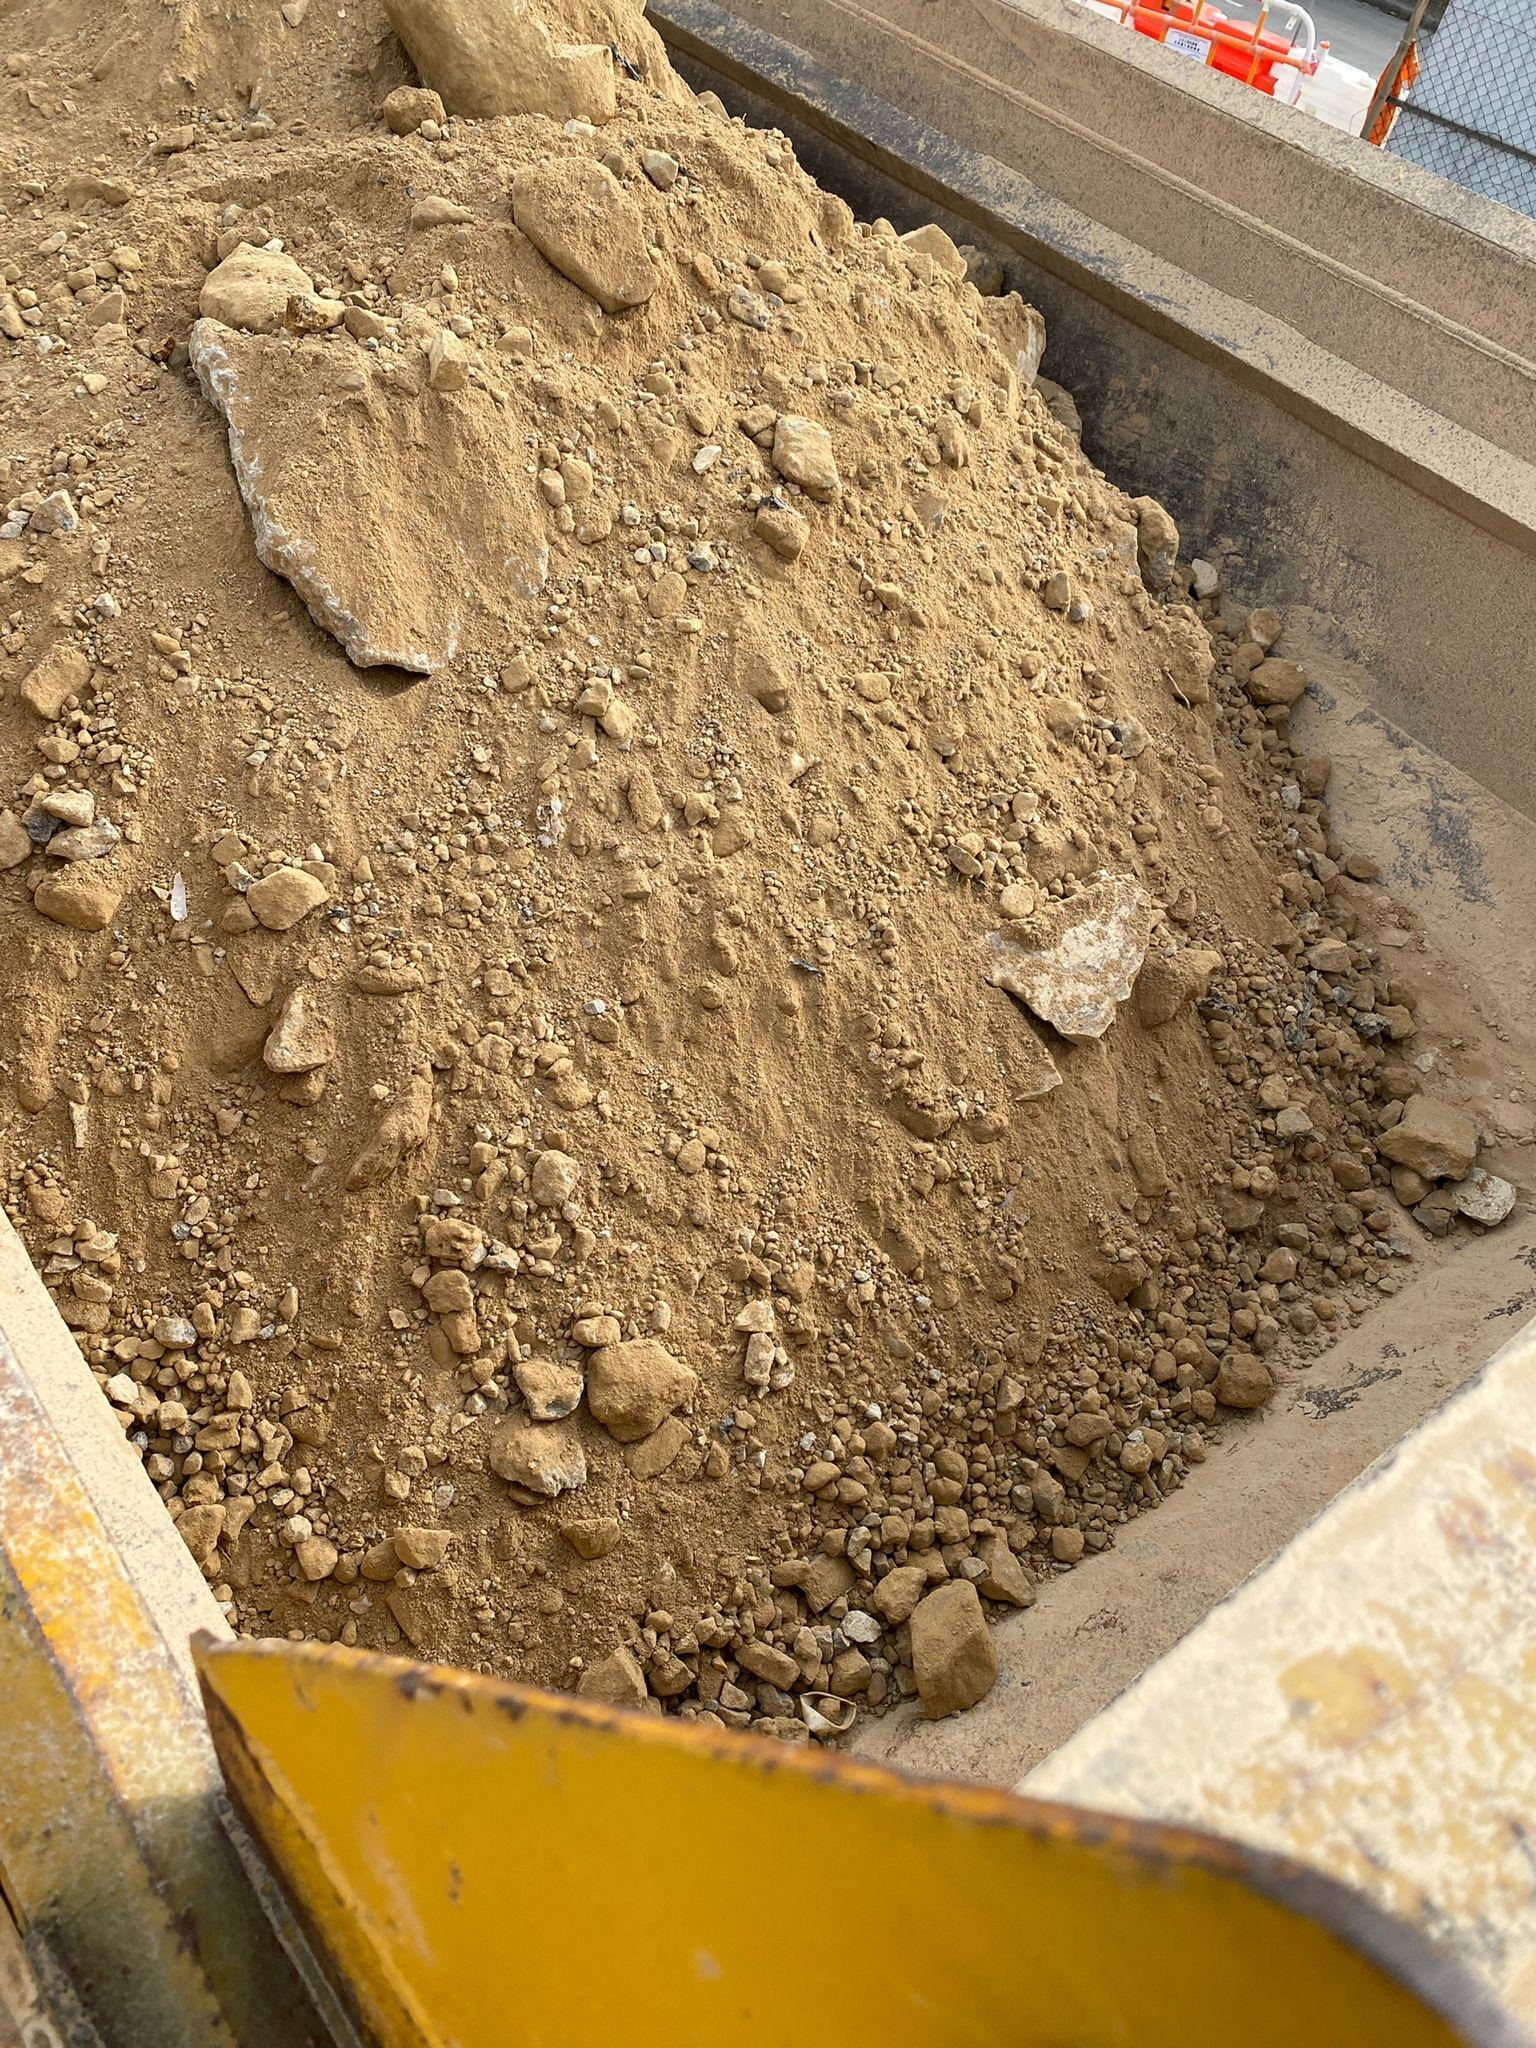dirt: (2, 0, 1528, 1782)
stone: (186, 309, 550, 676), (977, 869, 1157, 1040), (509, 154, 659, 313), (907, 1576, 998, 1718), (584, 1334, 698, 1441), (197, 241, 318, 332), (1375, 1093, 1479, 1180), (485, 1421, 587, 1498), (769, 412, 839, 498), (245, 864, 327, 930)
